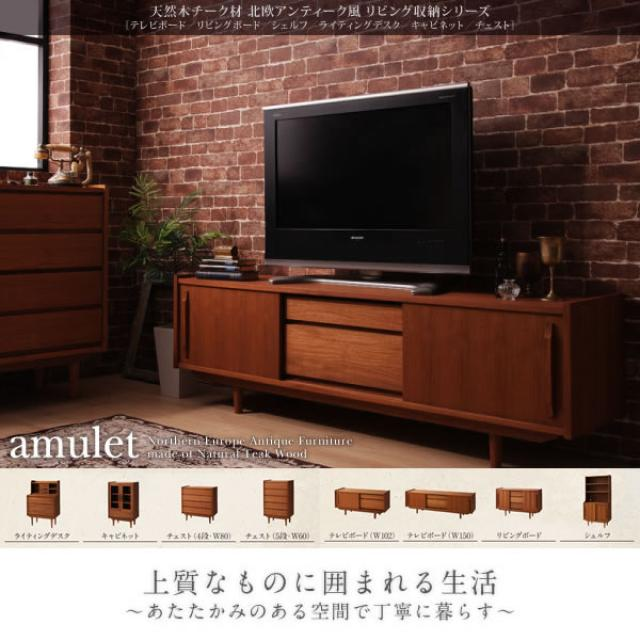vintage shelf: (165, 262, 610, 466), (4, 168, 106, 398)
